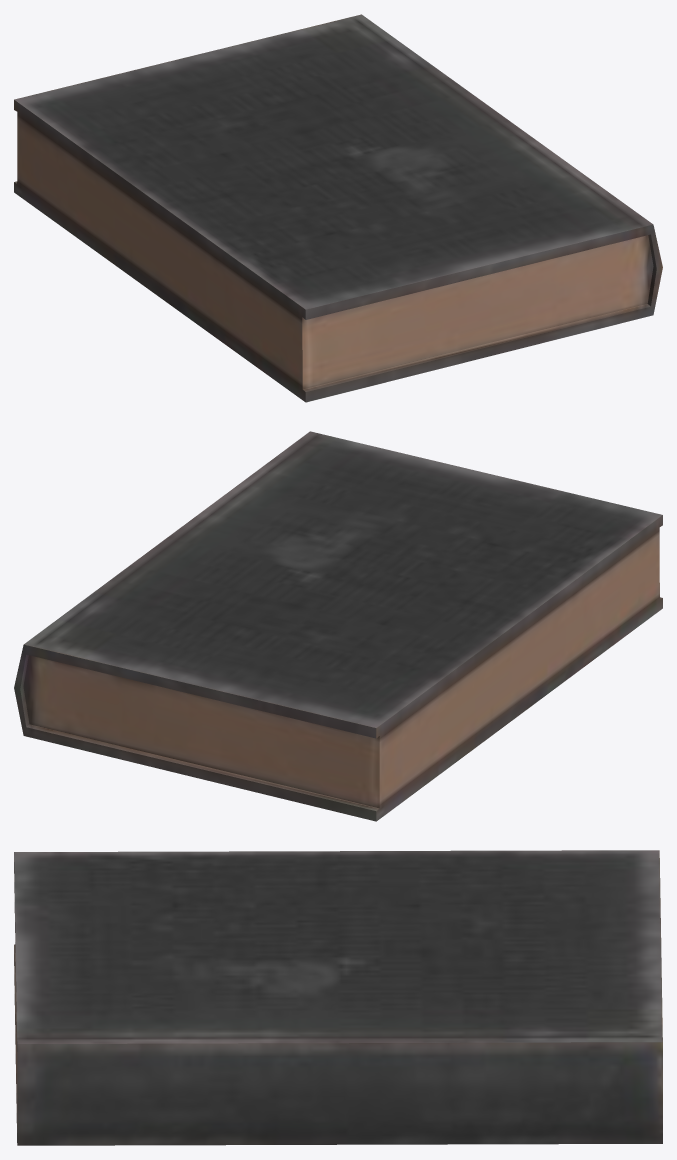
The model's file is book-single.glb.
3 renders of one model, top to bottom at view 1: azimuth 30°, elevation 25°; view 2: azimuth 150°, elevation 25°; view 3: azimuth 270°, elevation 25°, orthographic. The views are drawn at different scales.
Parts seen in each view (by area): view 1: book-single; view 2: book-single; view 3: book-single.
Boxes of the visible parts, box(x1,y1,x2,y2) form: book-single: box(14, 14, 662, 402); book-single: box(14, 431, 662, 821); book-single: box(14, 850, 662, 1145).
Size of the model in its own units: 0.1674 by 0.041 by 0.2319.
1 material, 1 textured.
